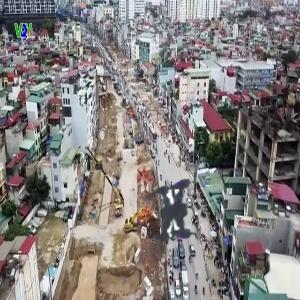drone: (101, 132, 261, 292)
